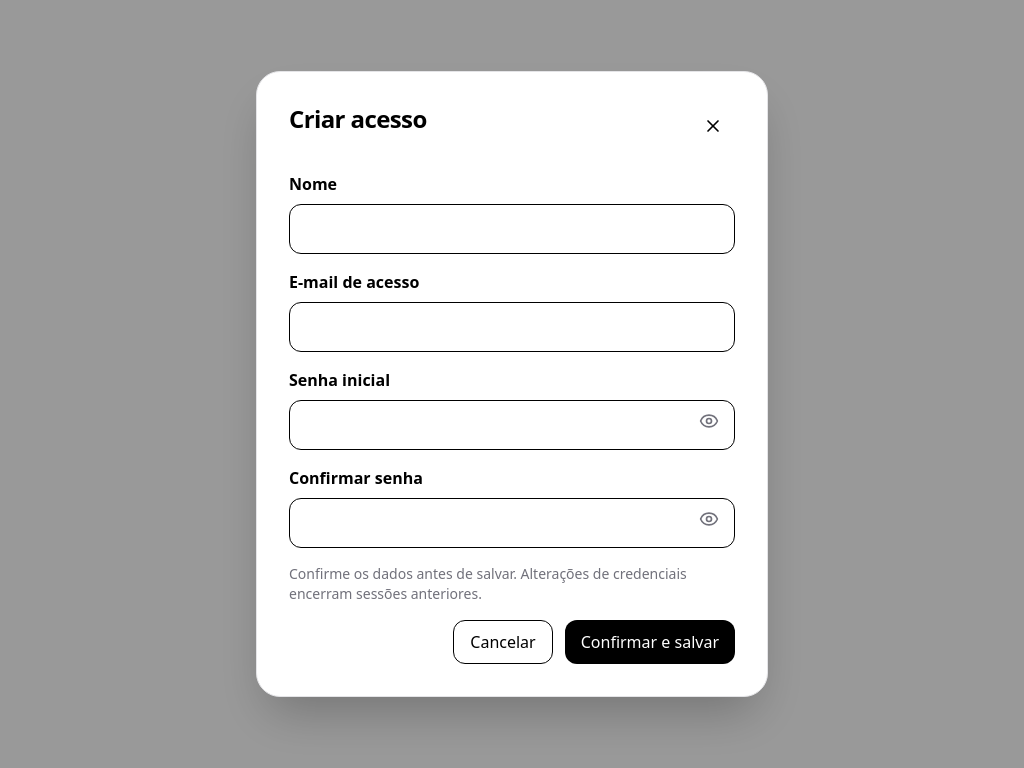
Scenario: creation dialog presents a safe distinct error for {"code":"functions/already-exists"}
Type "Admin Test" into the field labelled "Nome" at (512, 229), box [289,204,735,254]
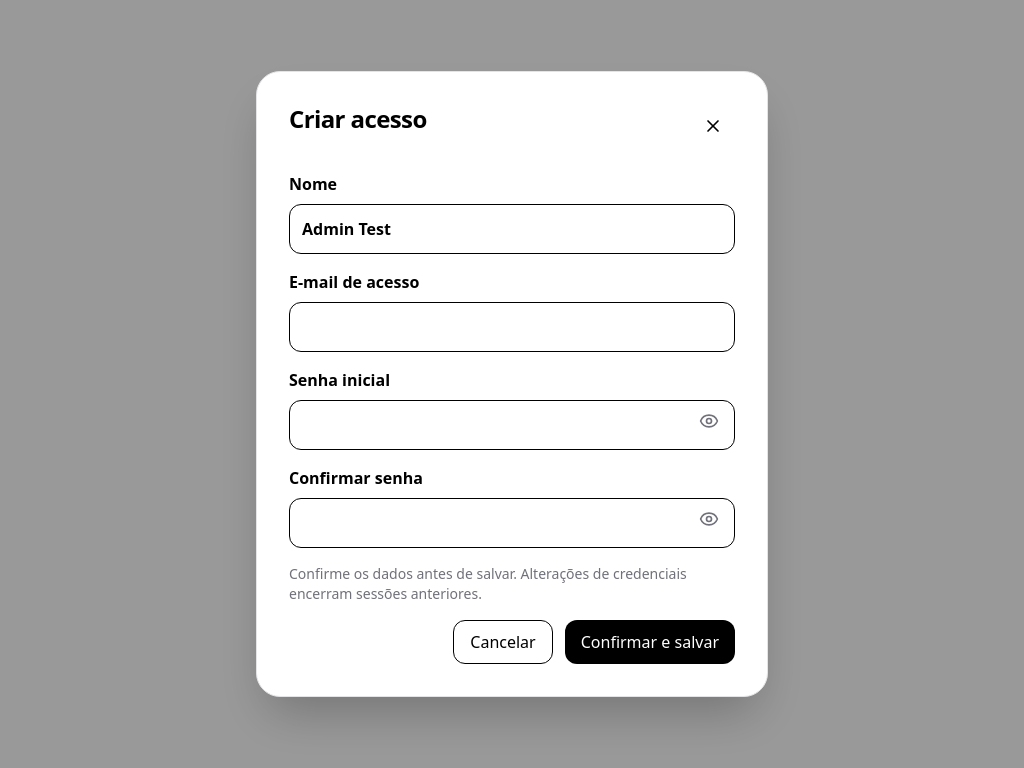
Type "admin@example.test" into the field labelled "E-mail de acesso" at (512, 327), box [289,302,735,352]
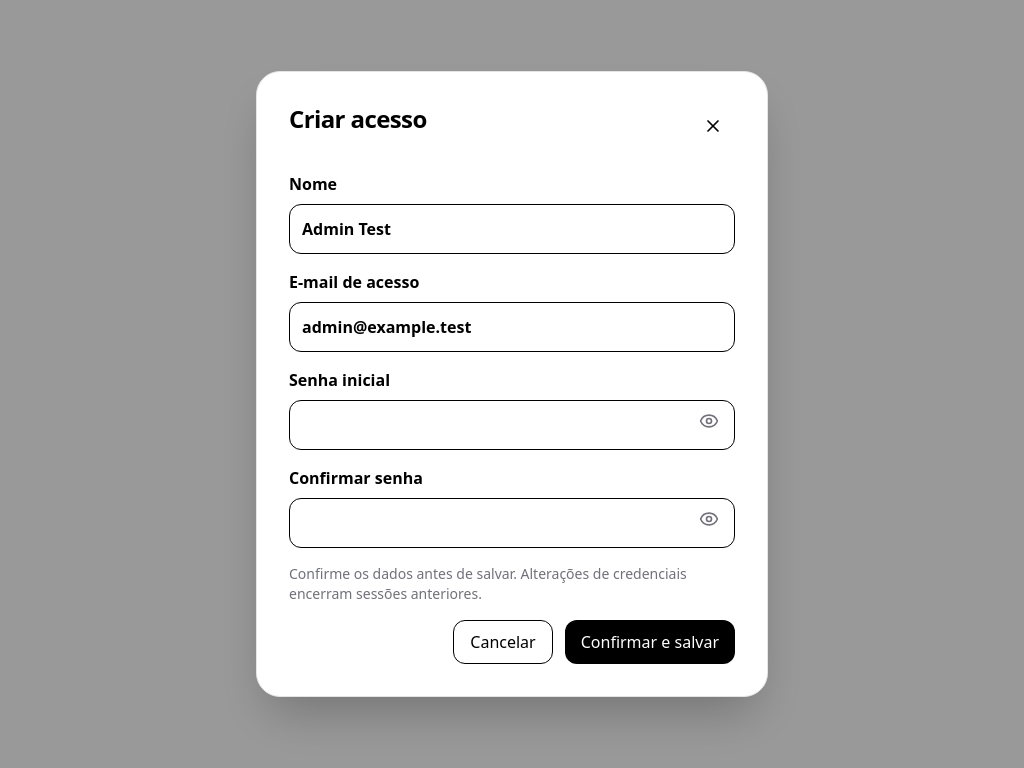
Type "example-only-123" into the password field labelled "Senha inicial" at (512, 425), box [289,400,735,450]
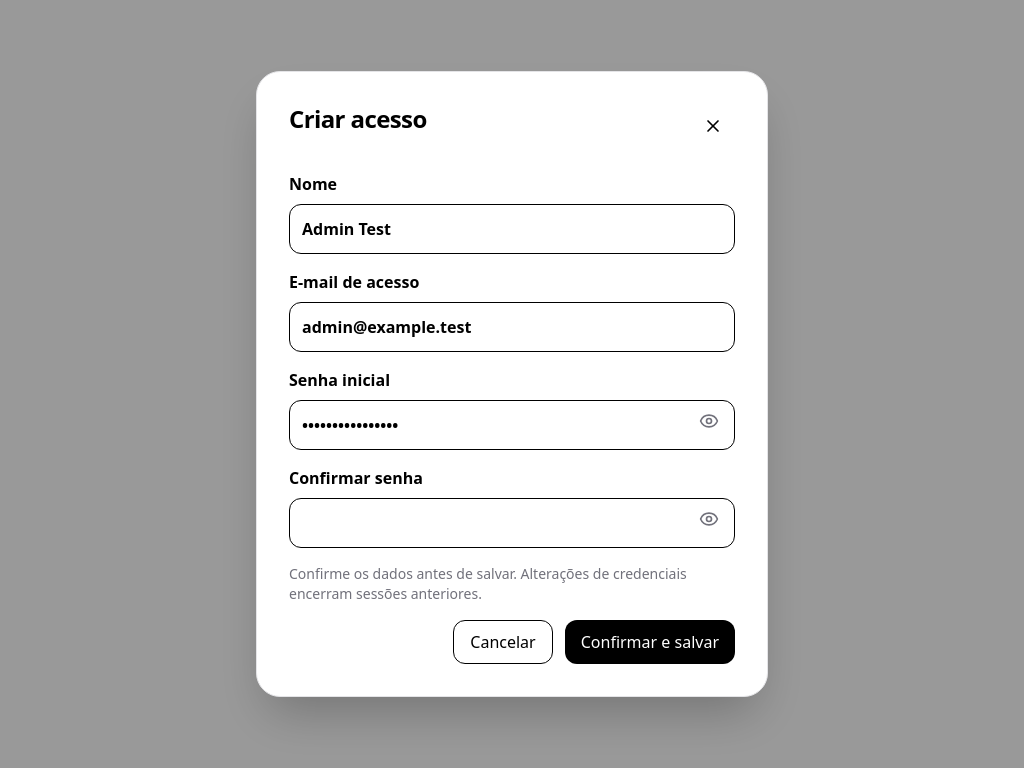
Type "example-only-123" into the password field labelled "Confirmar senha" at (512, 523), box [289,498,735,548]
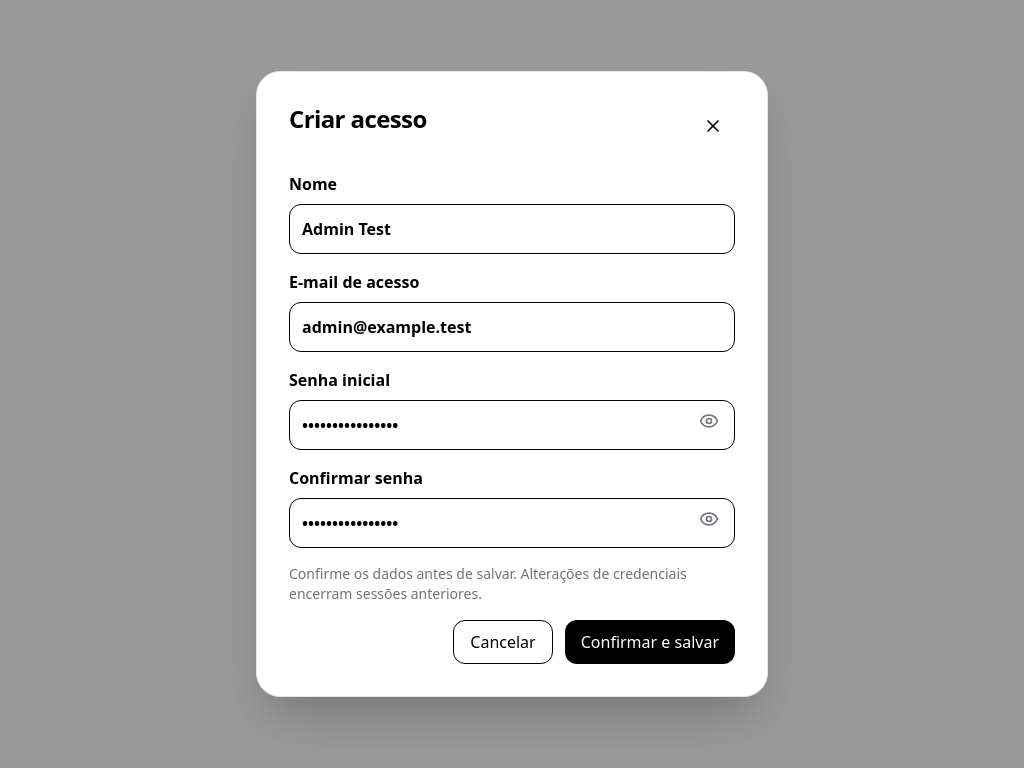
Click the button "Confirmar e salvar" at (650, 642), box [565,620,735,664]
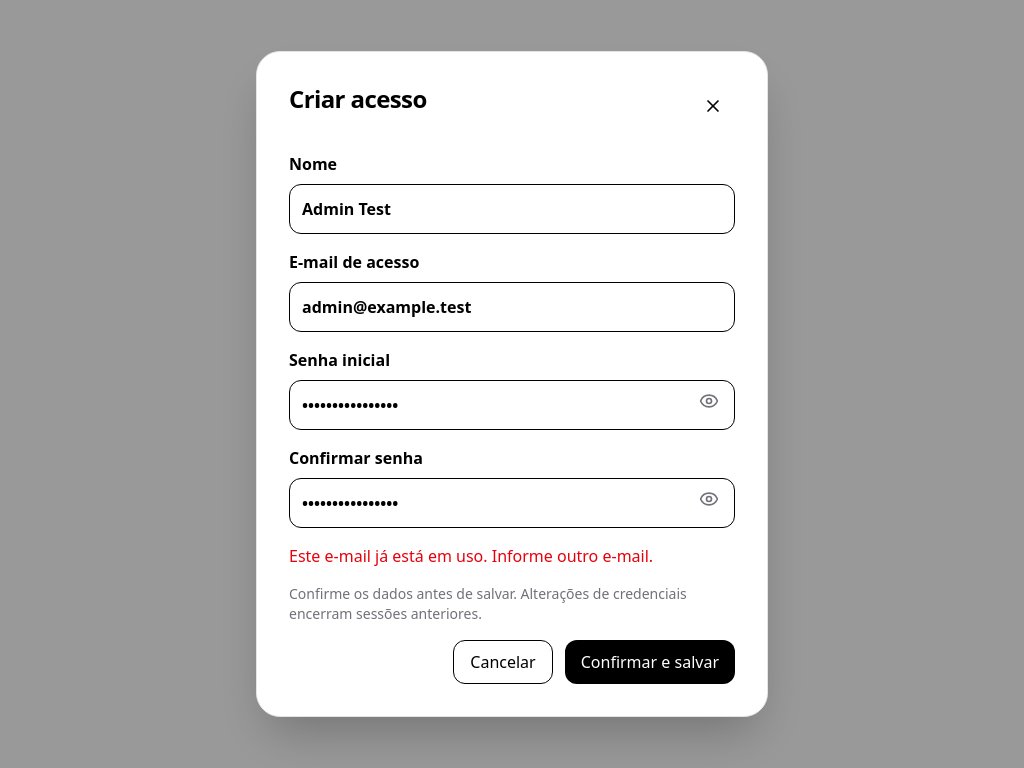
Check: the message reads "Este e-mail já está em uso. Informe outro e-mail.", box [289,545,653,567]
